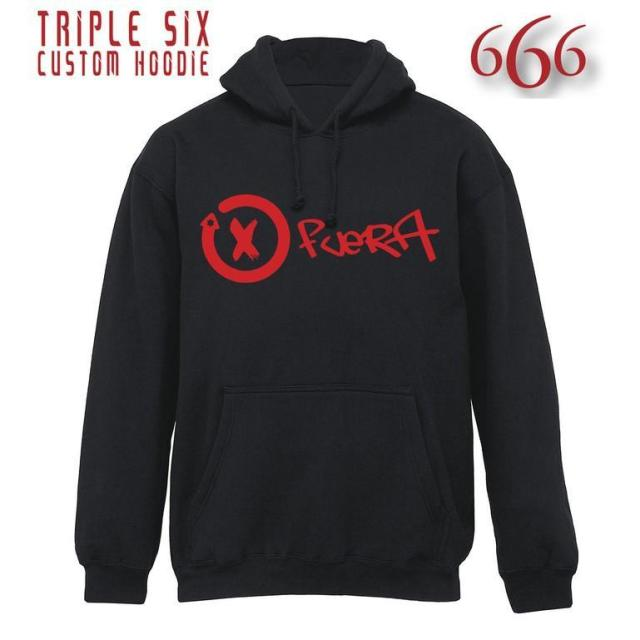sweater: (72, 18, 594, 630)
